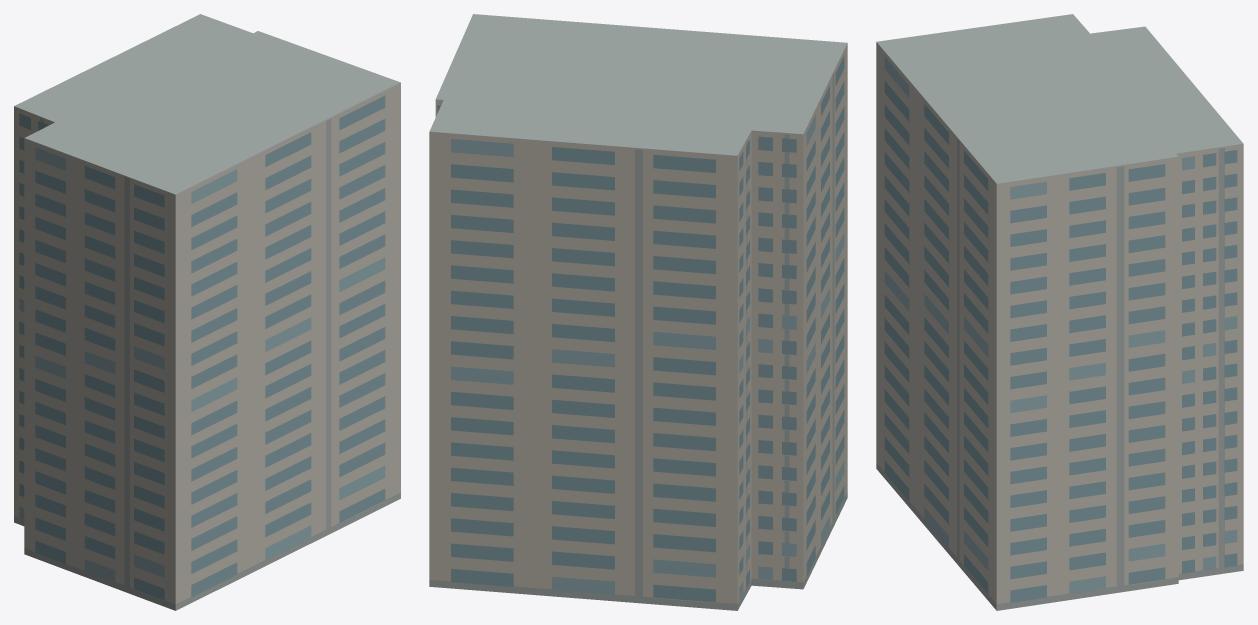
The model's file is survey-upis-32762890.glb.
3 views of the same model, side by side, from view 1: azimuth 30°, elevation 25°; view 2: azimuth 150°, elevation 25°; view 3: azimuth 270°, elevation 25° (orthographic). The views are drawn at different scales.
Visible parts, largest first — view 1: survey-upis-32762890.tmp; view 2: survey-upis-32762890.tmp; view 3: survey-upis-32762890.tmp.
Part boxes in pixels (box(x1,y1,x2,y2)): survey-upis-32762890.tmp: box(14, 14, 400, 610); survey-upis-32762890.tmp: box(429, 14, 847, 610); survey-upis-32762890.tmp: box(876, 14, 1243, 610).
Bounding box in the file's own units: 61.08 × 71.6 × 55.79.
